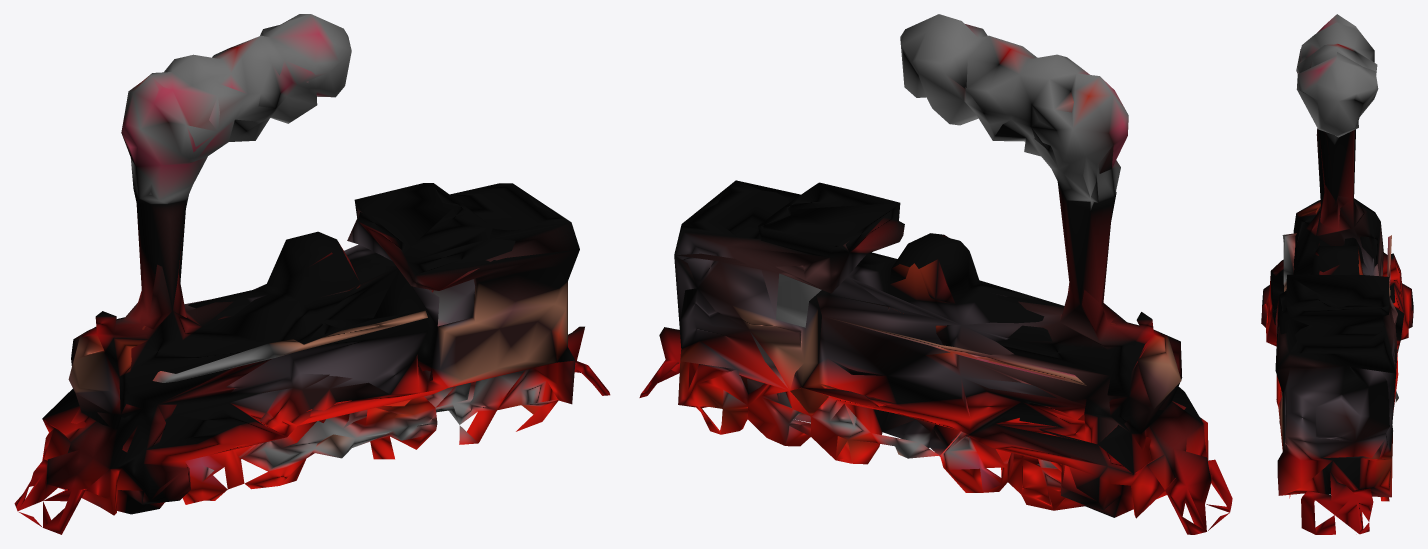
File: gen3d-locomotive-lod0.glb
3 views of the same model, side by side, from view 1: azimuth 30°, elevation 25°; view 2: azimuth 150°, elevation 25°; view 3: azimuth 270°, elevation 25° (orthographic). The views are drawn at different scales.
Visible parts, largest first — view 1: part_0; view 2: part_0; view 3: part_0.
Boxes of the visible parts, x1,y1,x2,y2 form: part_0: [14, 14, 610, 534]; part_0: [639, 14, 1232, 534]; part_0: [1261, 14, 1413, 534].
Bounding box in the file's own units: 1.33 × 0.9987 × 0.3789.
